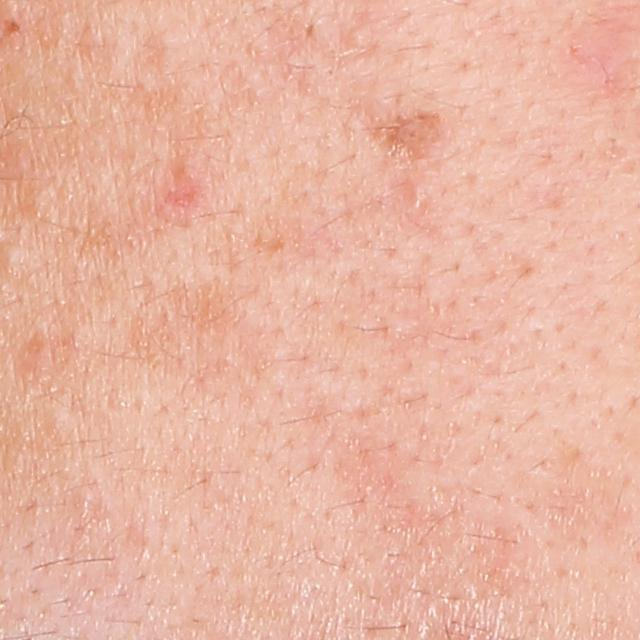comedo: (342, 24, 373, 53)
